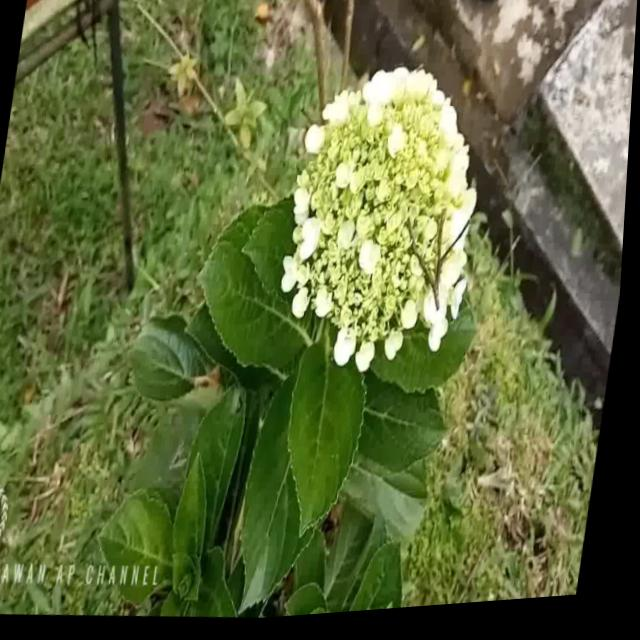Flower: (267, 52, 509, 404)
